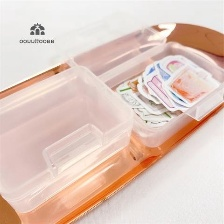plastic_box: (54, 0, 223, 153), (0, 59, 140, 218)
